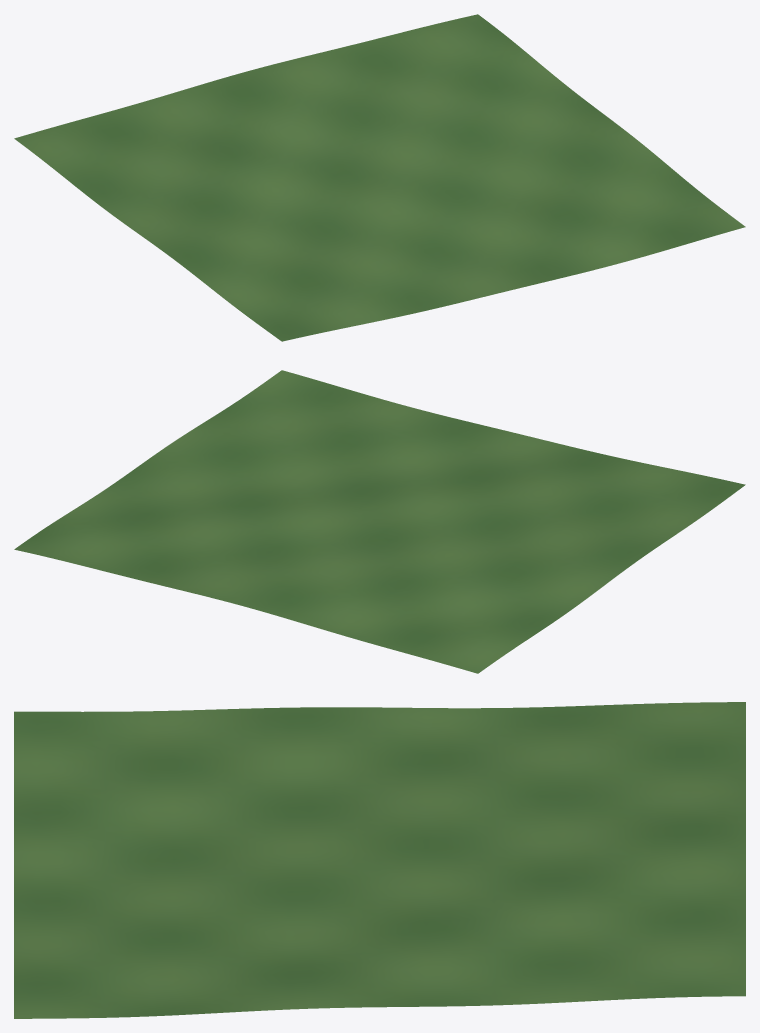
Rendered from chunk_2_4.glb.
The picture shows the model from 3 angles, top to bottom: view 1: azimuth 30°, elevation 25°; view 2: azimuth 150°, elevation 25°; view 3: azimuth 270°, elevation 25°; orthographic projection. The views are drawn at different scales.
Bounding box in the file's own units: 512 × 24.58 × 512.
